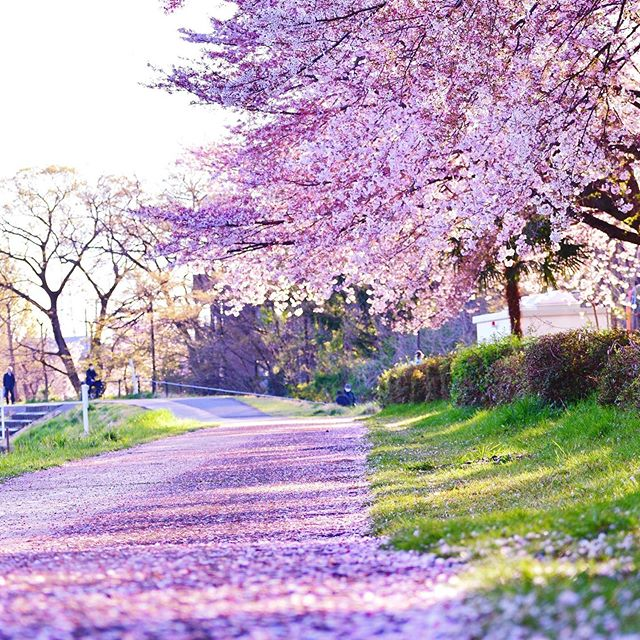pathway: (13, 393, 371, 637)
sky: (1, 1, 219, 178)
tree: (188, 10, 632, 322), (6, 179, 192, 417)
vegetation: (382, 368, 640, 640)
